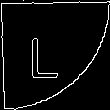L_N: (39, 29, 71, 81)
